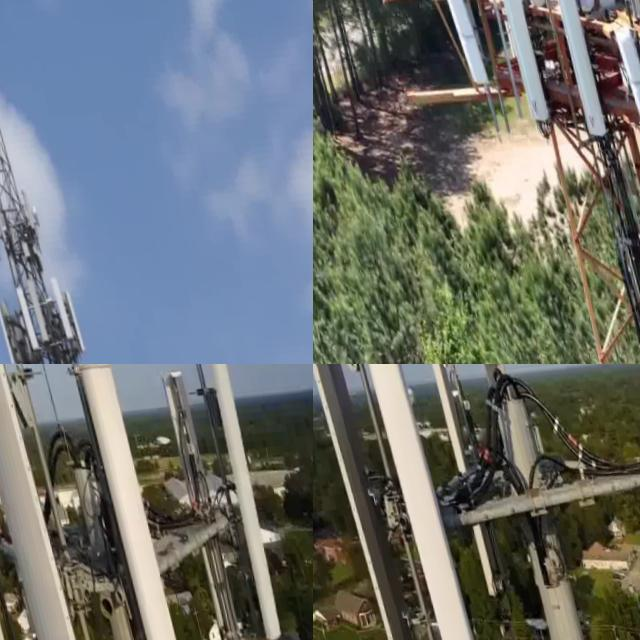GSM Antenna: (60, 364, 220, 640), (339, 364, 499, 640), (0, 364, 115, 640), (313, 364, 420, 640), (182, 364, 287, 640), (152, 364, 248, 640), (415, 364, 502, 600), (538, 0, 605, 143), (481, 0, 550, 123), (434, 0, 491, 99), (468, 364, 520, 450), (603, 24, 640, 138), (52, 277, 82, 356), (39, 267, 68, 345), (4, 278, 33, 352), (16, 272, 43, 342), (0, 302, 6, 364)
Microwave Antenna: (20, 199, 37, 228)
